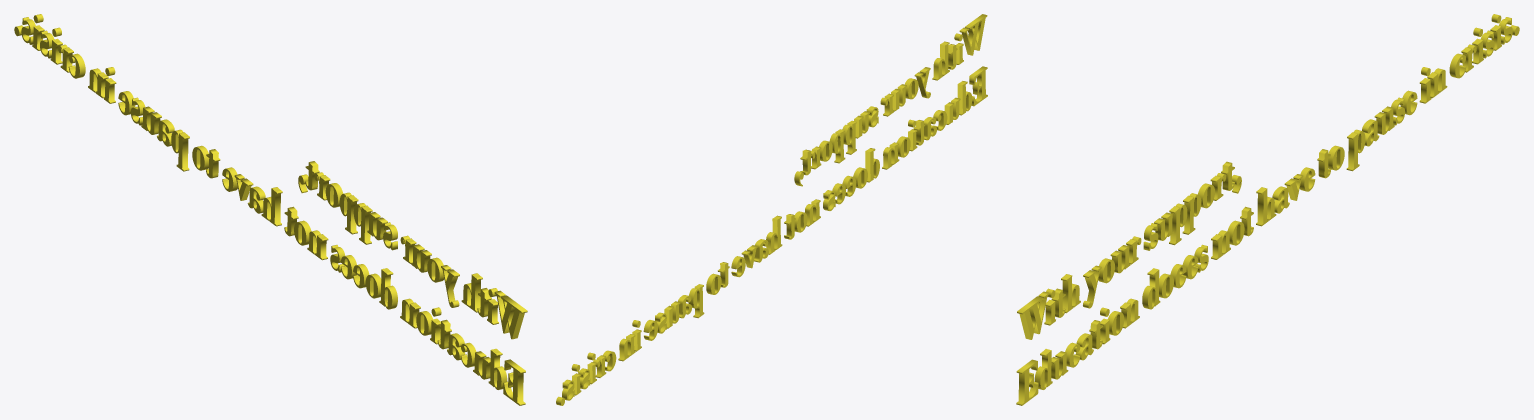
File: endmessage1.fbx
3 renders of one model, left to right at view 1: azimuth 30°, elevation 25°; view 2: azimuth 150°, elevation 25°; view 3: azimuth 330°, elevation 25°, orthographic. The views are drawn at different scales.
Visible parts, largest first — view 1: Text; view 2: Text; view 3: Text.
Boxes of the visible parts, <box> form: Text: <box>14,14,527,405</box>; Text: <box>556,14,987,405</box>; Text: <box>1016,14,1519,405</box>.
Bounding box in the file's own units: 72.7 × 714 × 6210.
